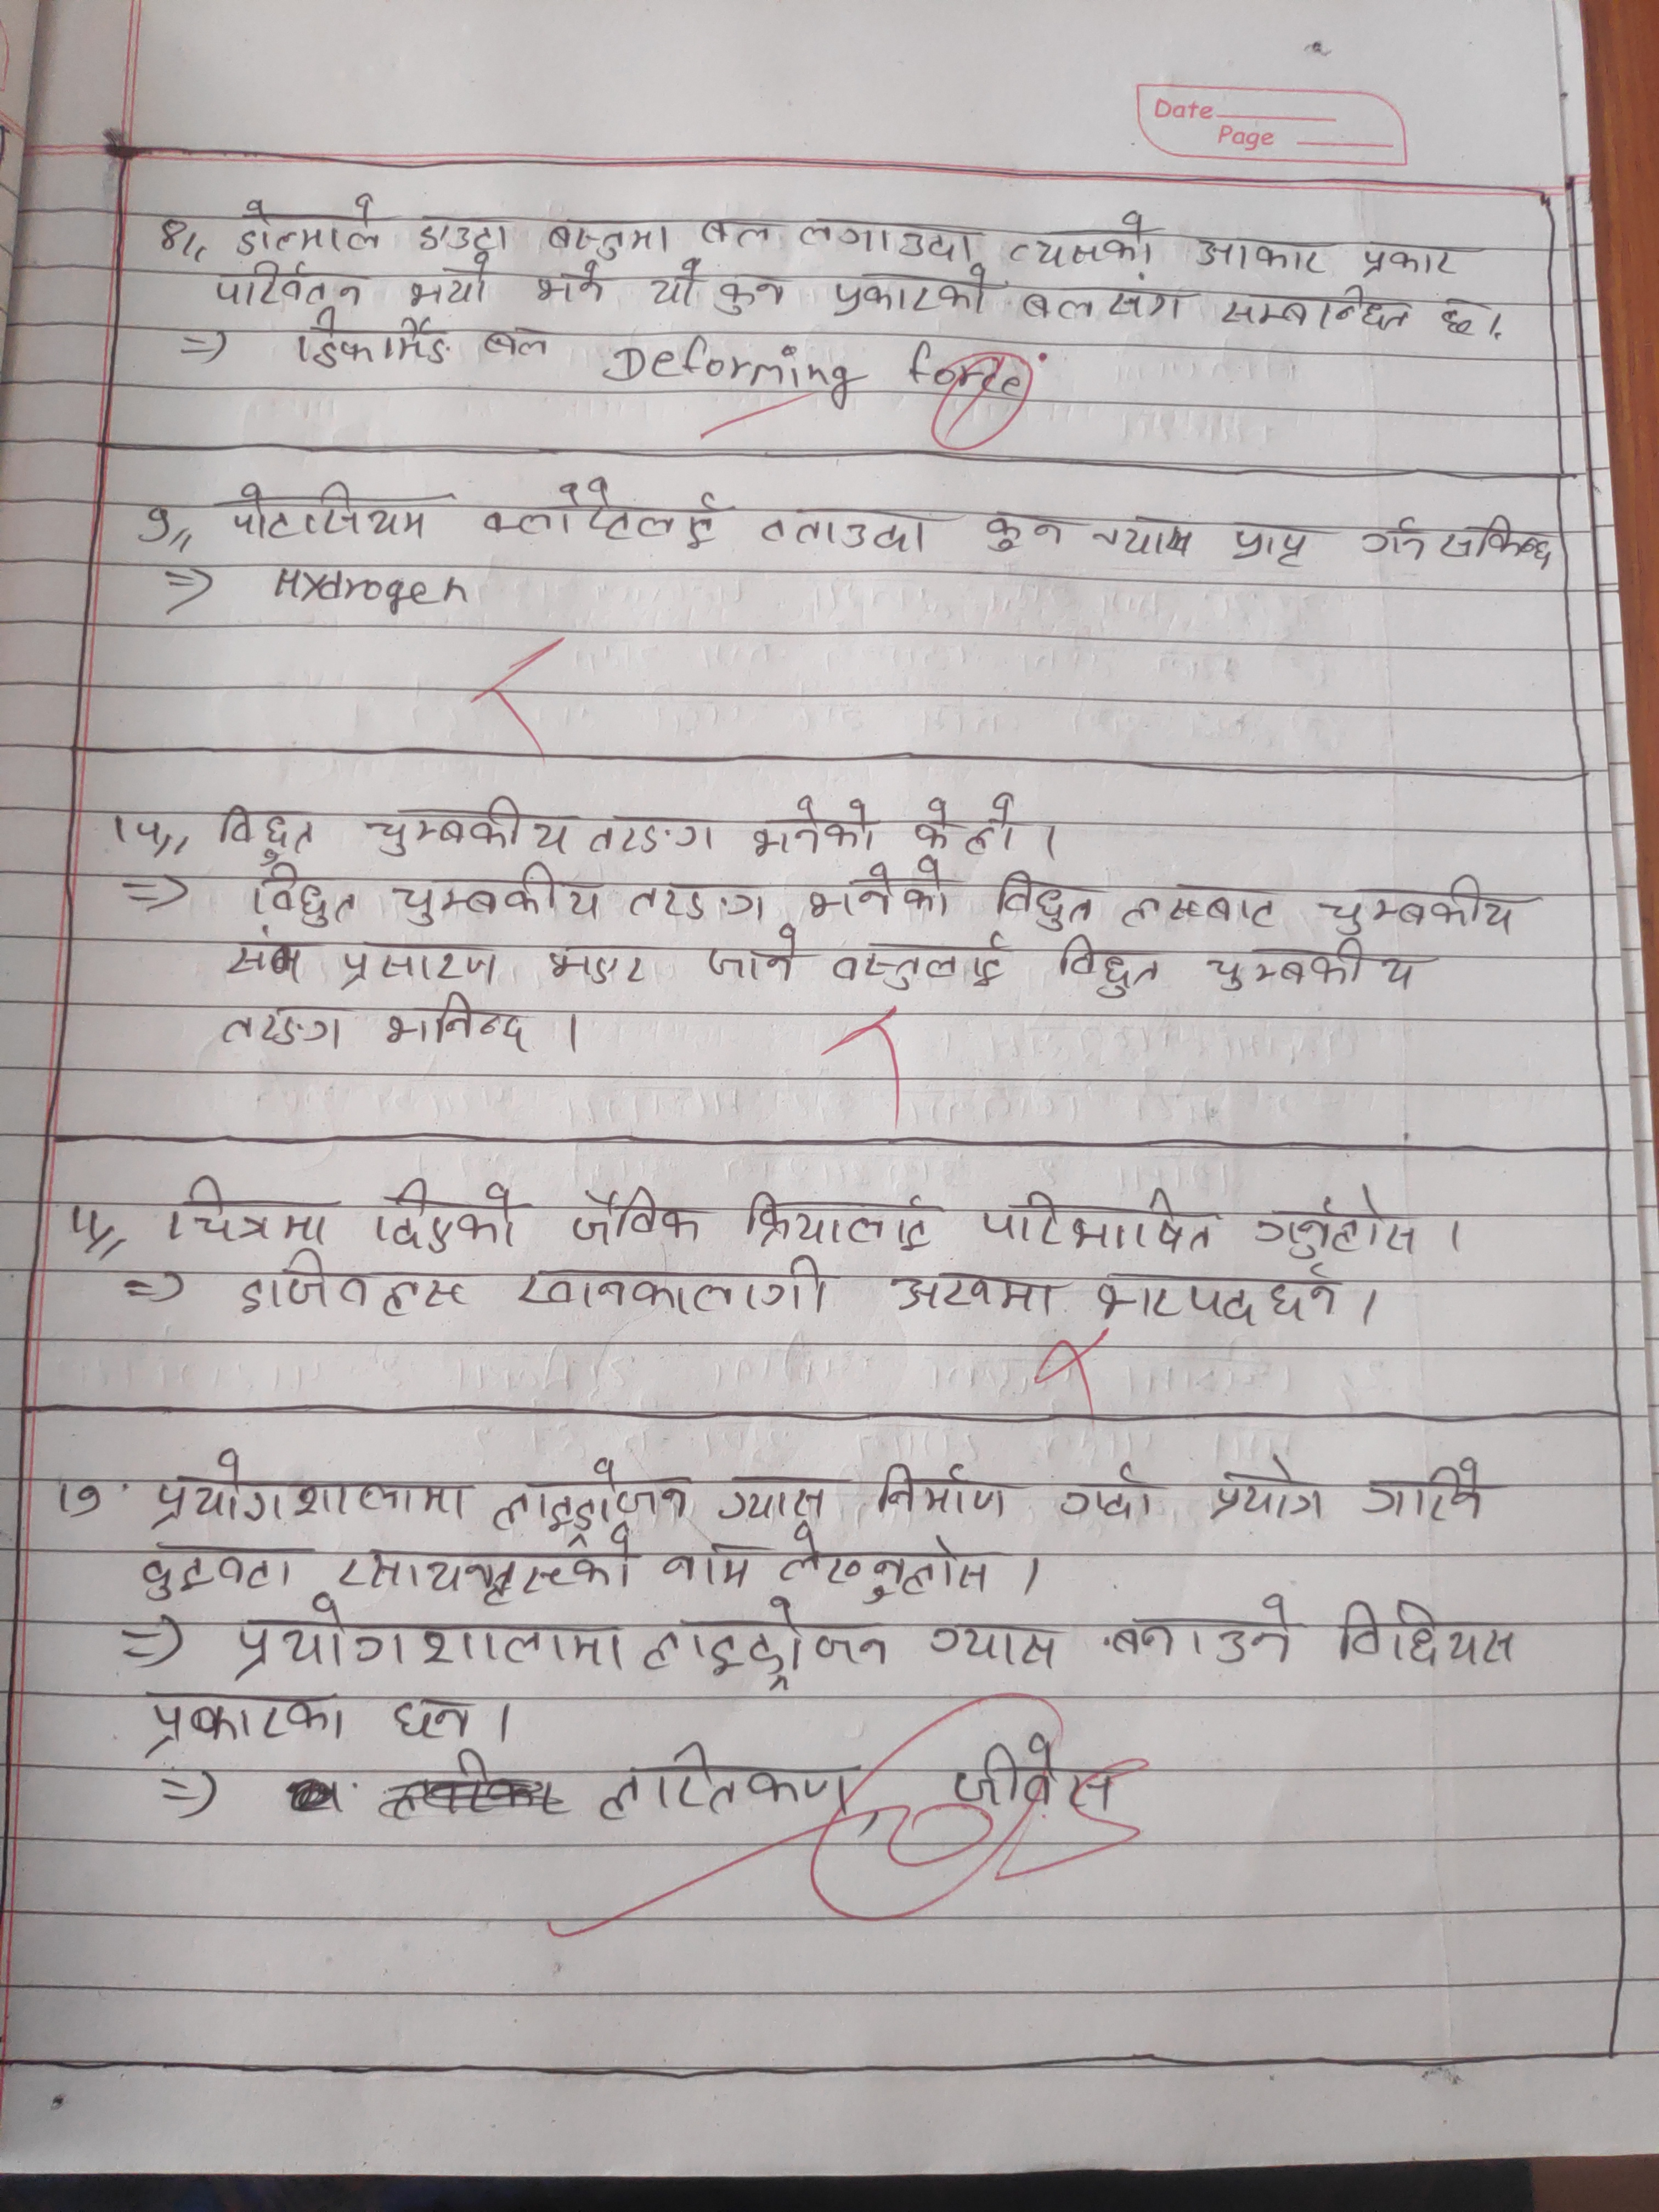text: (225, 1597, 629, 1684), (153, 1449, 474, 1529), (596, 1735, 859, 1824), (634, 1609, 897, 1691), (505, 1259, 842, 1318), (333, 1527, 640, 1592), (976, 1183, 1222, 1263), (477, 474, 721, 549), (1089, 1258, 1338, 1331), (779, 1521, 995, 1604), (127, 1684, 352, 1761), (1202, 928, 1434, 1001), (232, 1252, 460, 1324), (493, 1454, 690, 1533), (1314, 869, 1530, 941), (213, 479, 444, 543), (1335, 1594, 1525, 1672), (951, 1735, 1131, 1817), (1108, 1592, 1305, 1665), (392, 862, 606, 928), (164, 1170, 340, 1251), (361, 796, 577, 859), (1256, 1183, 1427, 1261), (739, 1188, 934, 1256), (369, 1176, 526, 1259), (1215, 275, 1415, 336), (798, 204, 985, 265), (755, 496, 936, 559), (295, 303, 455, 373), (823, 939, 1026, 993), (138, 1541, 303, 1608), (1359, 1454, 1504, 1529), (864, 1456, 1032, 1521), (382, 988, 540, 1055), (329, 932, 509, 991), (1121, 873, 1284, 935), (803, 857, 955, 923), (927, 1608, 1072, 1676), (1007, 204, 1159, 268), (235, 190, 380, 256), (894, 1264, 1060, 1322), (748, 792, 890, 859), (831, 265, 993, 322), (1016, 272, 1190, 324), (1054, 932, 1176, 1005), (565, 1188, 706, 1249), (1438, 503, 1554, 575), (1211, 1458, 1328, 1527), (213, 260, 366, 310), (1188, 226, 1331, 280), (251, 860, 361, 930), (627, 874, 772, 927), (990, 873, 1112, 934), (206, 1001, 354, 1049), (720, 1468, 840, 1526), (213, 799, 326, 859), (702, 920, 809, 982), (540, 934, 659, 989), (591, 805, 714, 857), (542, 211, 673, 260), (1358, 230, 1471, 286), (1087, 507, 1199, 563), (979, 496, 1072, 563), (660, 1540, 767, 1594), (469, 312, 565, 369), (1063, 1465, 1159, 1521), (1222, 514, 1323, 566), (403, 256, 497, 312), (394, 1689, 481, 1745), (1356, 512, 1436, 571), (225, 935, 319, 984), (711, 265, 795, 319), (535, 249, 612, 307), (964, 786, 1021, 862), (416, 211, 518, 254), (695, 207, 779, 256), (910, 786, 962, 859), (1436, 287, 1492, 348), (648, 265, 702, 310)
